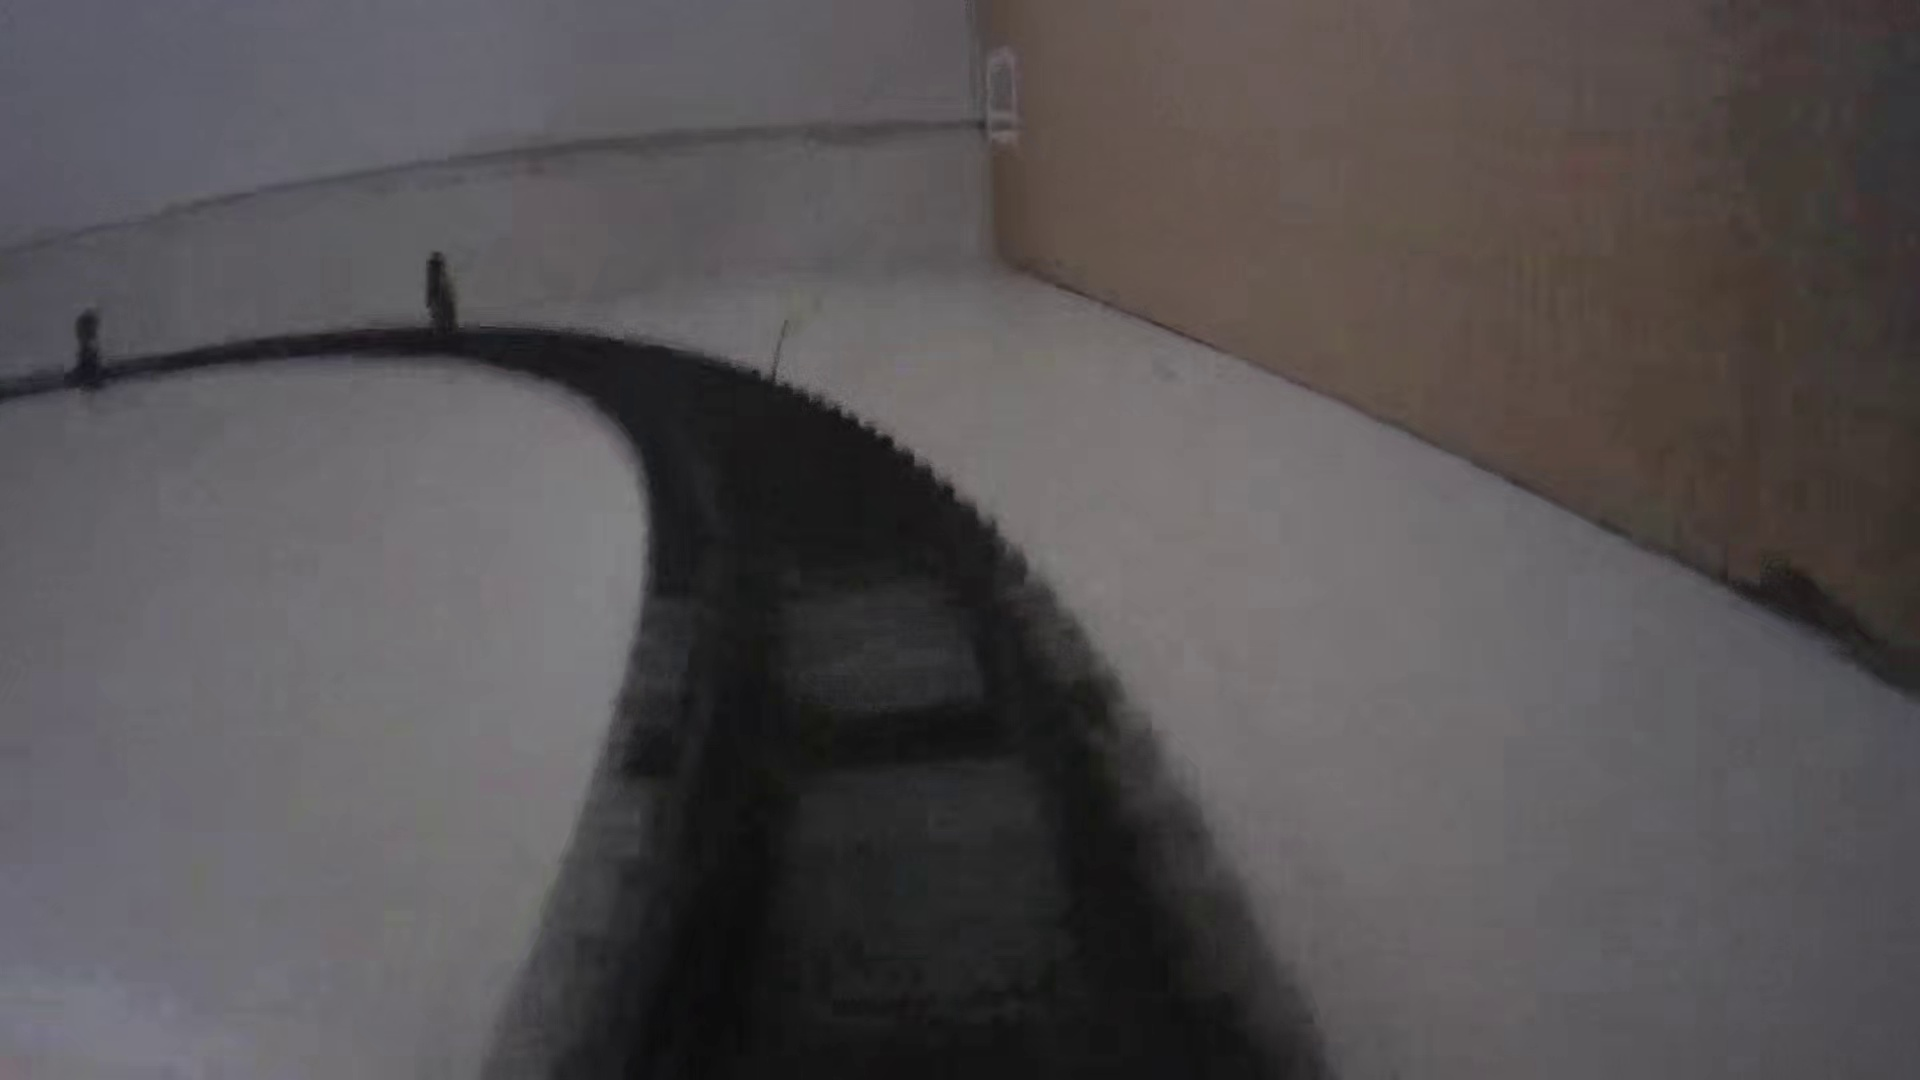people: (421, 250, 462, 345)
